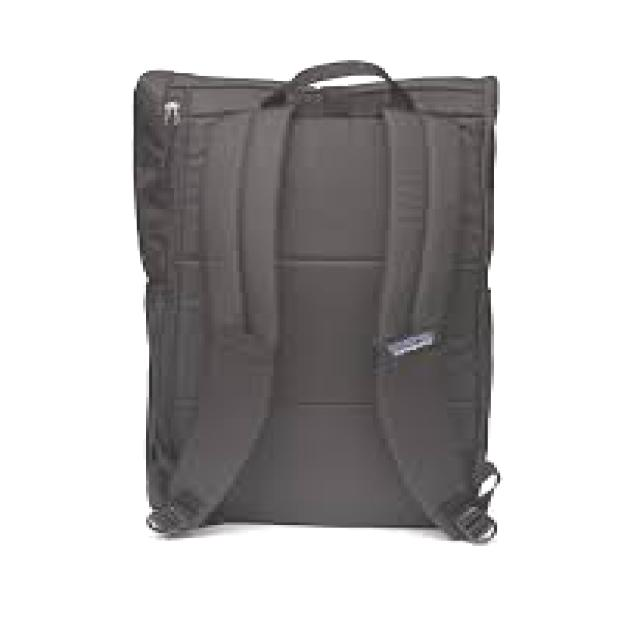backpack: (132, 59, 502, 545)
